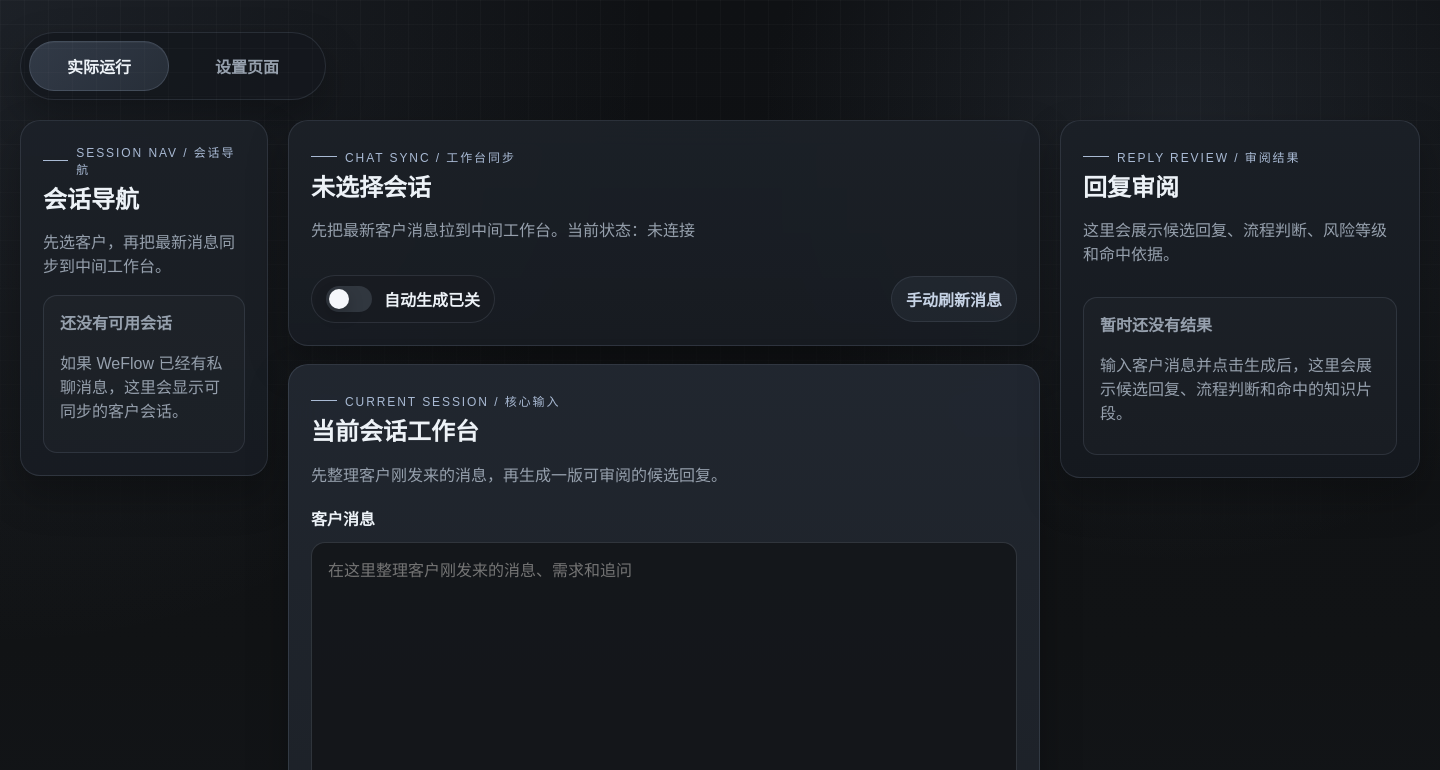
Test: App › 关闭上传弹窗时会重置表单内容
Step 1. Click the tab "设置页面" → (247, 66), box x1=177 y1=41 x2=317 y2=91
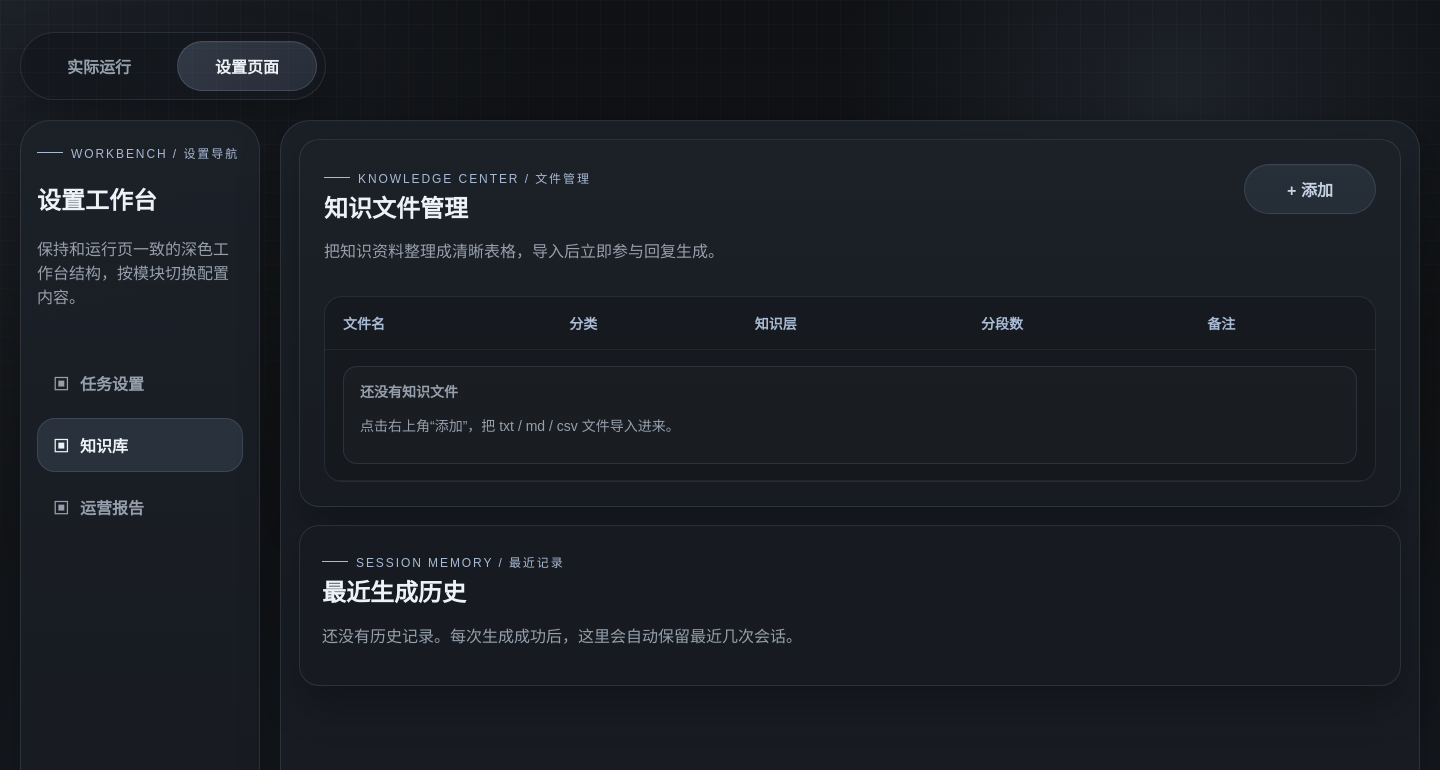
Step 2. Click the button "+ 添加" → (1310, 189), box x1=1244 y1=164 x2=1376 y2=214
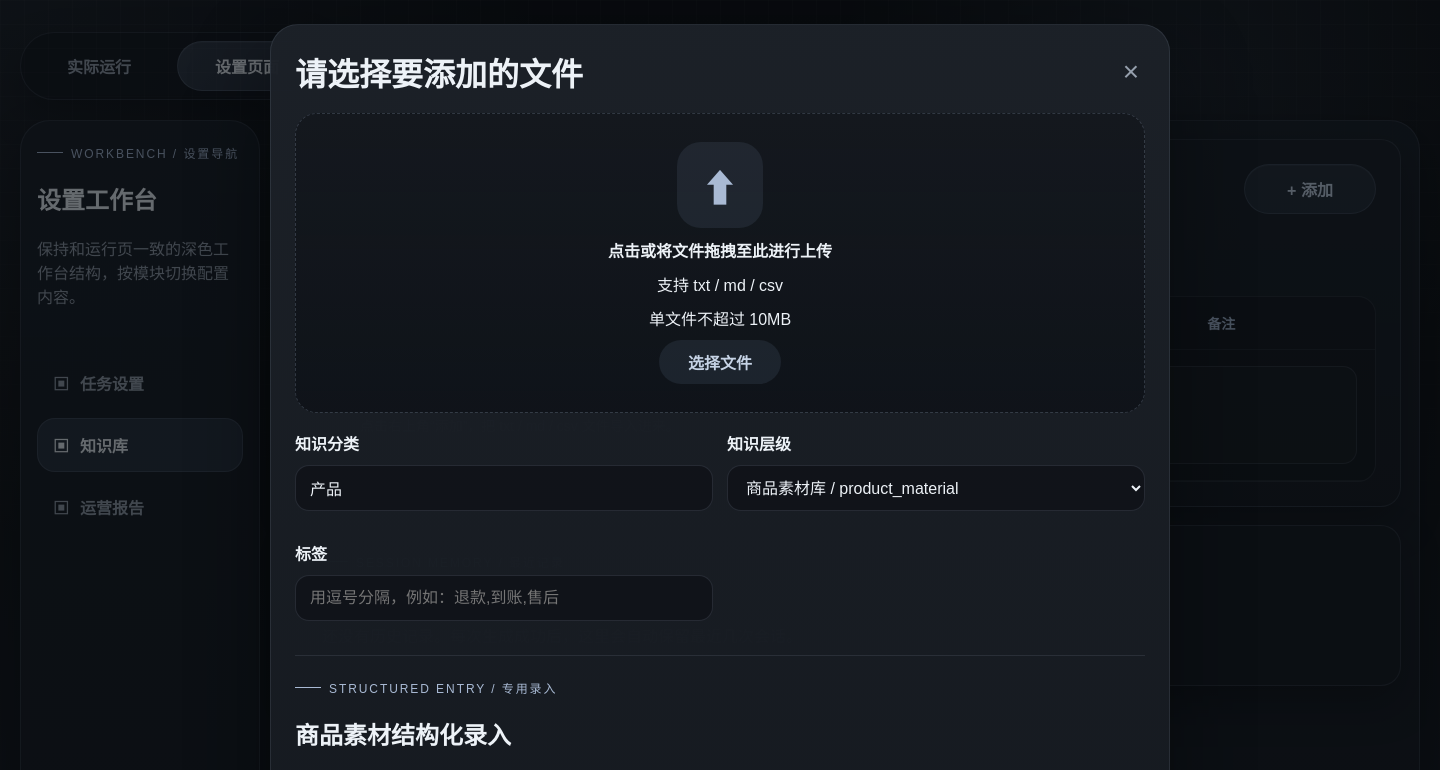
Step 3. Replace the text in the field showing "产品" with "回复风格" → (504, 488), box x1=295 y1=465 x2=713 y2=511
Step 4. Type "活人感,聊天" into the field labelled "标签" → (504, 598), box x1=295 y1=575 x2=713 y2=621
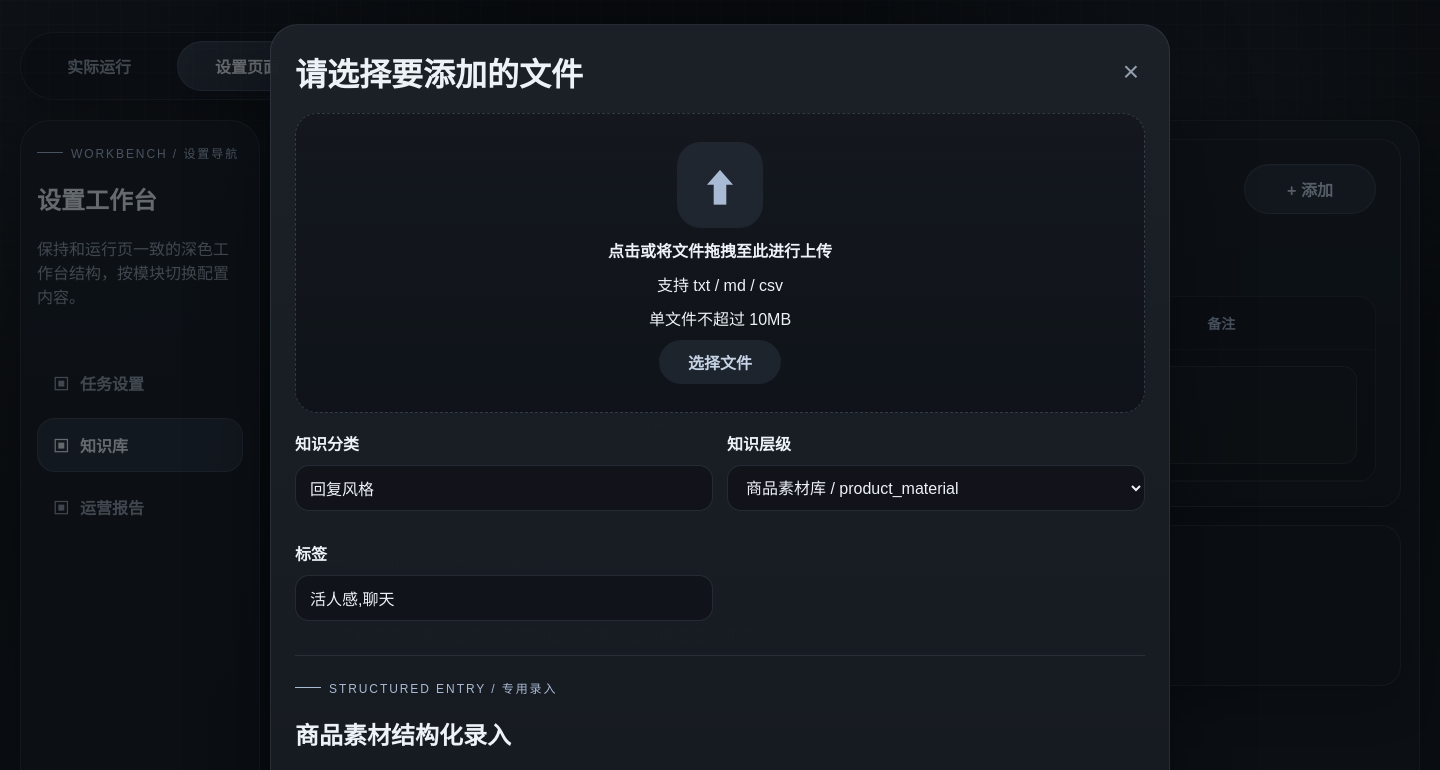
Step 5. Select "风格样本库 / style_sample" in the dropdown labelled "知识层级" → (936, 488), box x1=727 y1=465 x2=1145 y2=511
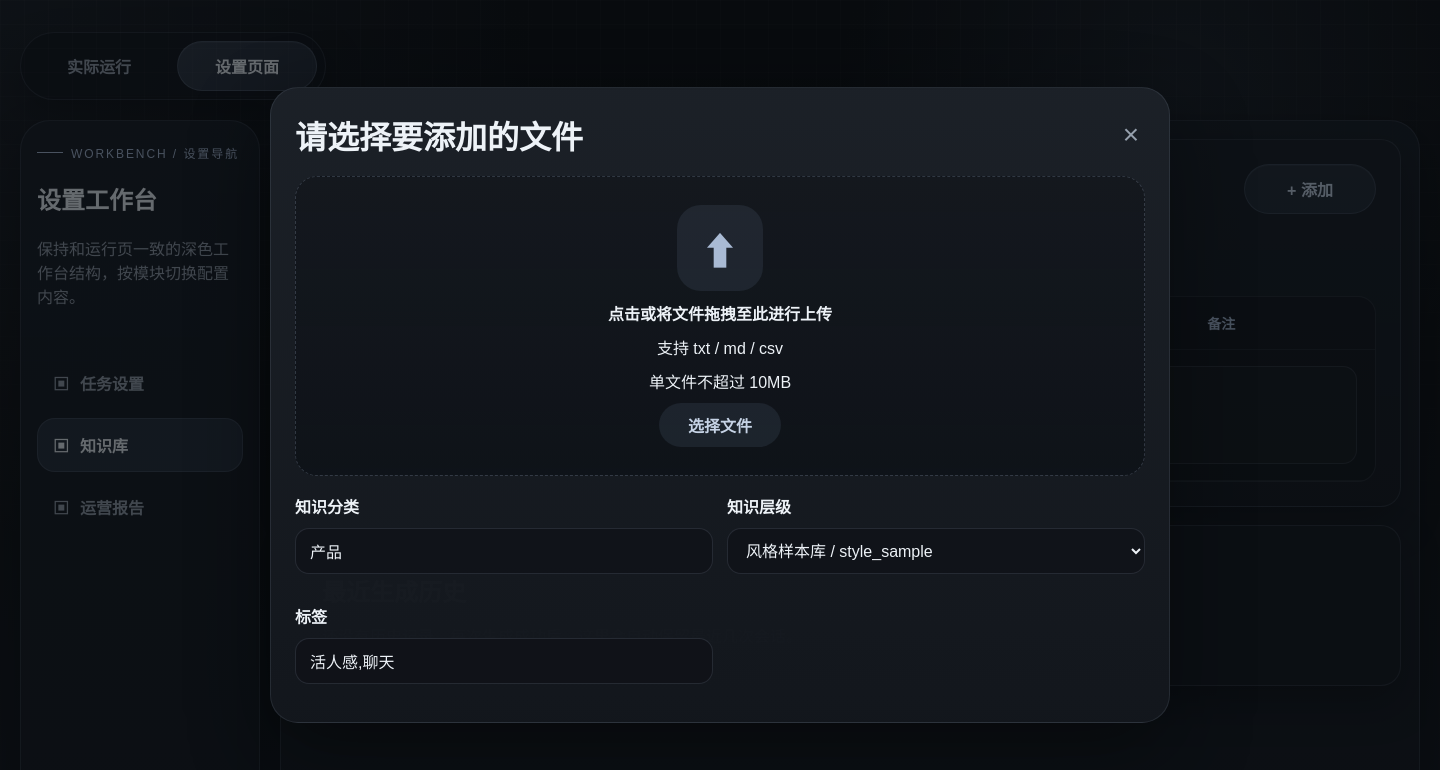
Step 6. Click the button named "关闭上传面板" → (1131, 135), box x1=1117 y1=120 x2=1145 y2=150
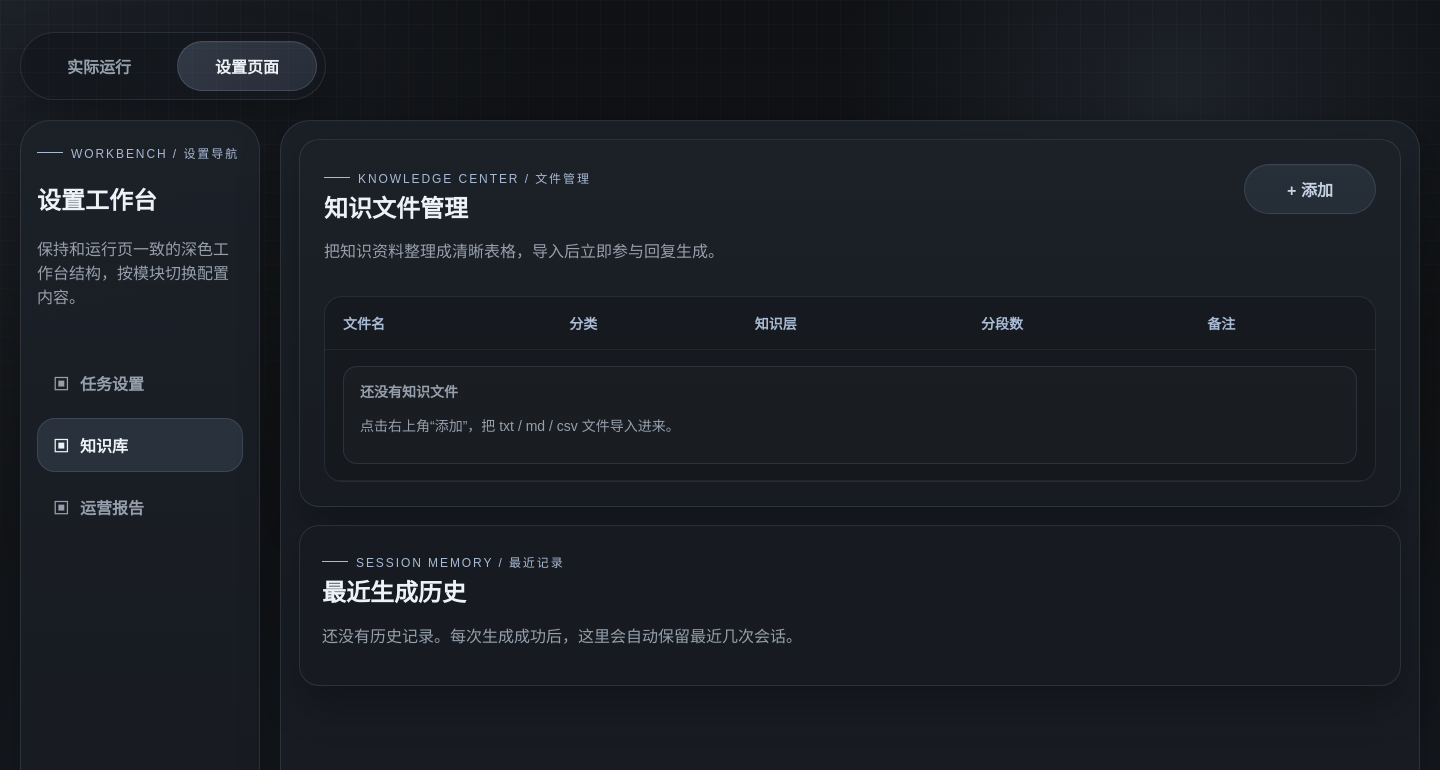
Step 7. Click the button "+ 添加" → (1310, 189), box x1=1244 y1=164 x2=1376 y2=214
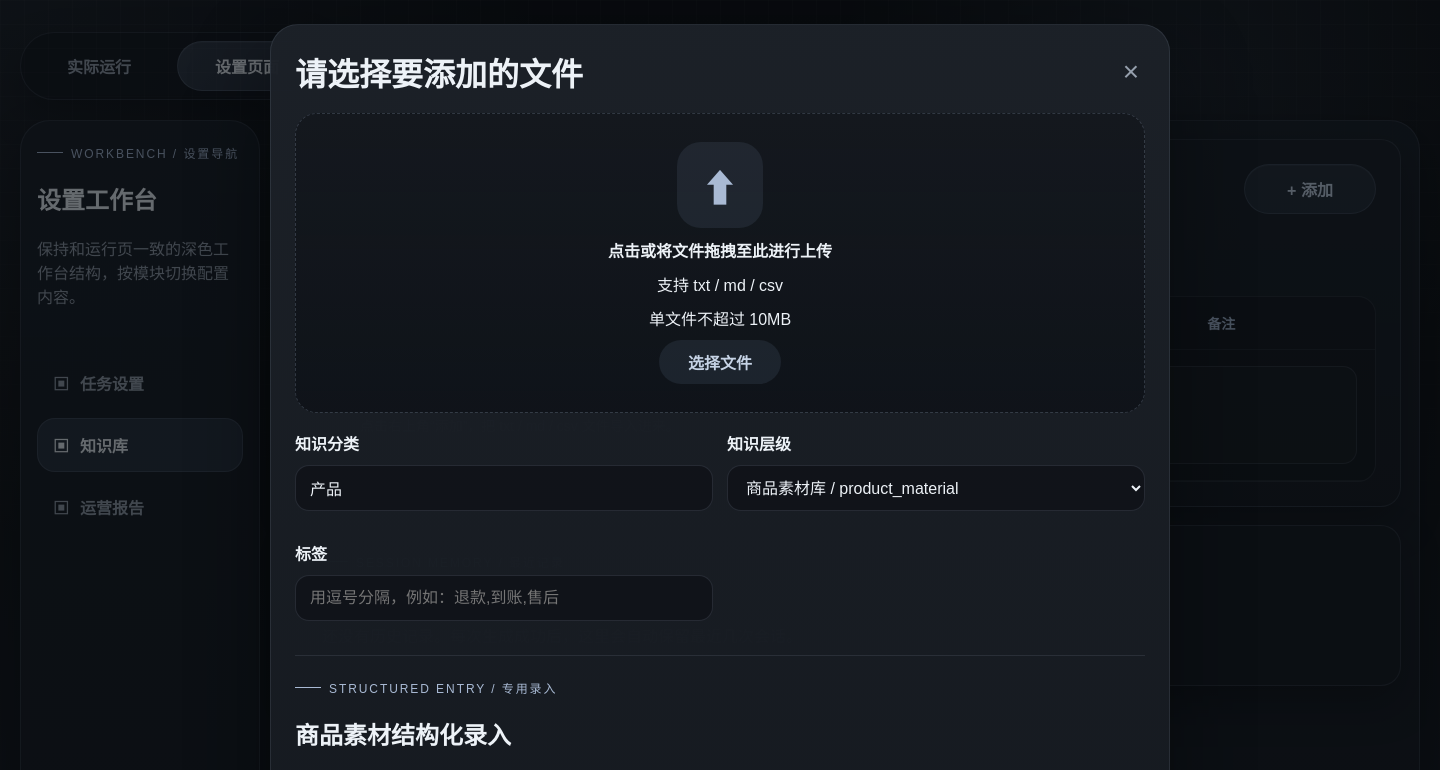
Result: the field showing "产品" is shown at x1=295 y1=465 x2=713 y2=511
Result: the field labelled "标签" is empty at x1=295 y1=575 x2=713 y2=621
Result: the dropdown labelled "知识层级" shows "商品素材库 / product_material" at x1=727 y1=465 x2=1145 y2=511
